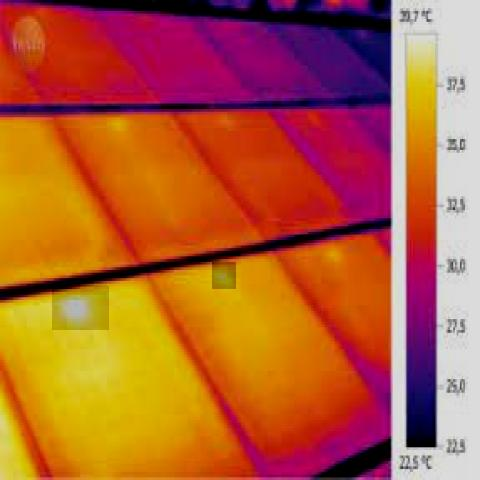fault: (52, 286, 109, 330), (212, 262, 236, 289)
